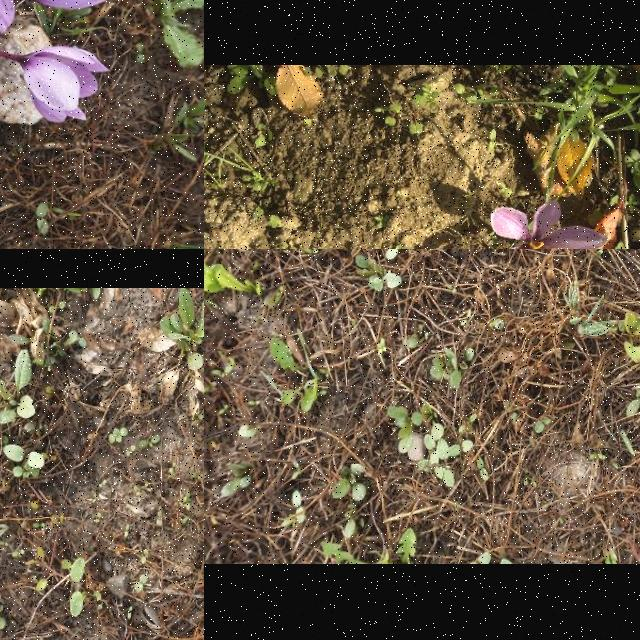flower: (15, 46, 110, 124), (480, 200, 606, 249), (24, 0, 118, 8)
